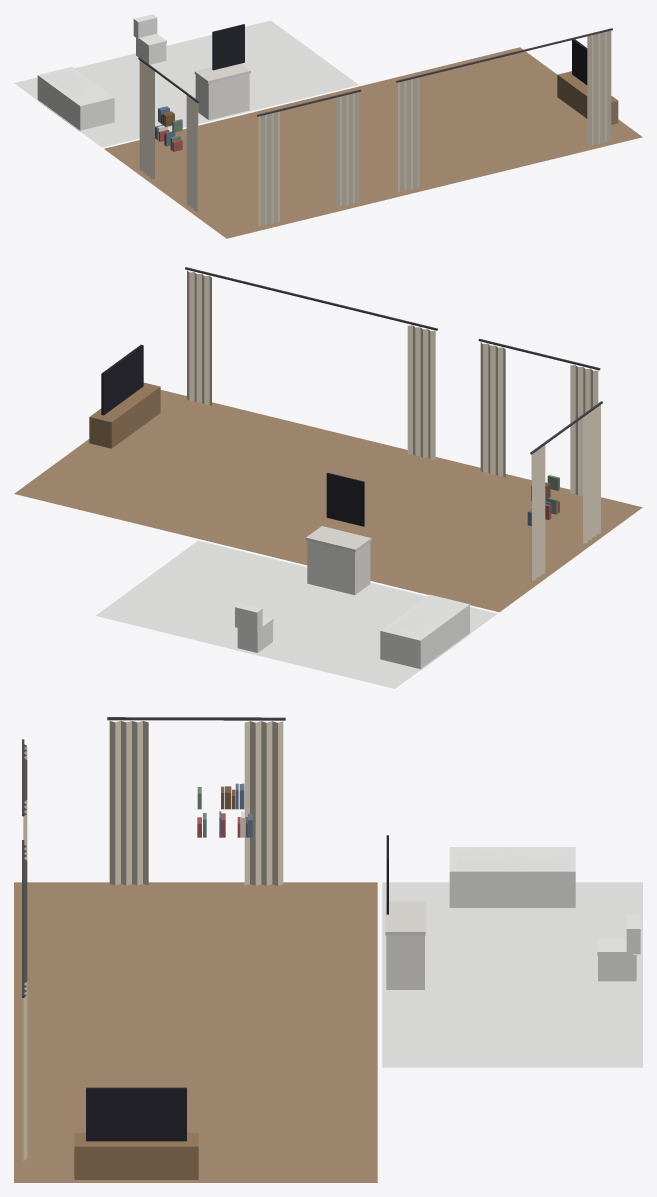
Rendered from fine-s1.glb.
3 views of the same model, one above another, from view 1: azimuth 30°, elevation 25°; view 2: azimuth 150°, elevation 25°; view 3: azimuth 270°, elevation 25° (orthographic). The views are drawn at different scales.
Parts seen in each view (by area): view 1: soft-s1, vanity.000, bathtub.000, tv-console.000, toilet.000; view 2: soft-s1, vanity.000, bathtub.000, tv-console.000, toilet.000; view 3: soft-s1, tv-console.000, bathtub.000, vanity.000, toilet.000.
Boxes of the visible parts, left/top/right/bottom form: soft-s1: left=14, top=20, right=642, bottom=238; vanity.000: left=194, top=24, right=250, bottom=120; bathtub.000: left=37, top=67, right=114, bottom=131; tv-console.000: left=557, top=39, right=618, bottom=124; toilet.000: left=133, top=14, right=166, bottom=64; soft-s1: left=14, top=267, right=642, bottom=688; vanity.000: left=306, top=473, right=371, bottom=595; bathtub.000: left=380, top=594, right=469, bottom=670; tv-console.000: left=89, top=344, right=160, bottom=448; toilet.000: left=235, top=603, right=273, bottom=652; soft-s1: left=14, top=717, right=642, bottom=1182; tv-console.000: left=74, top=1087, right=198, bottom=1179; bathtub.000: left=449, top=847, right=575, bottom=907; vanity.000: left=385, top=835, right=425, bottom=989; toilet.000: left=597, top=915, right=640, bottom=981.
Size of the model in its own units: 9.16 by 2.4 by 8.11.
